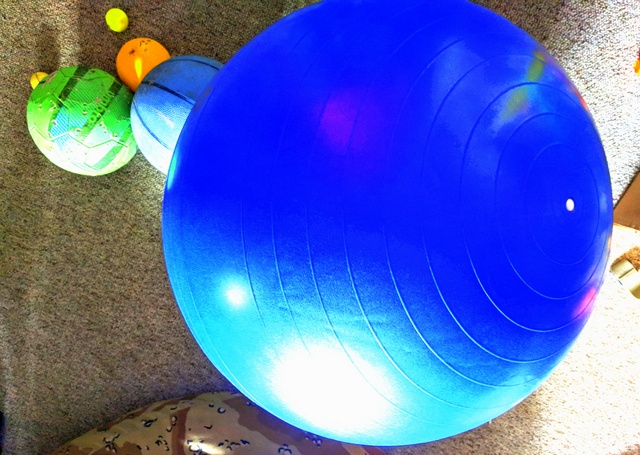ball: (162, 1, 617, 448)
